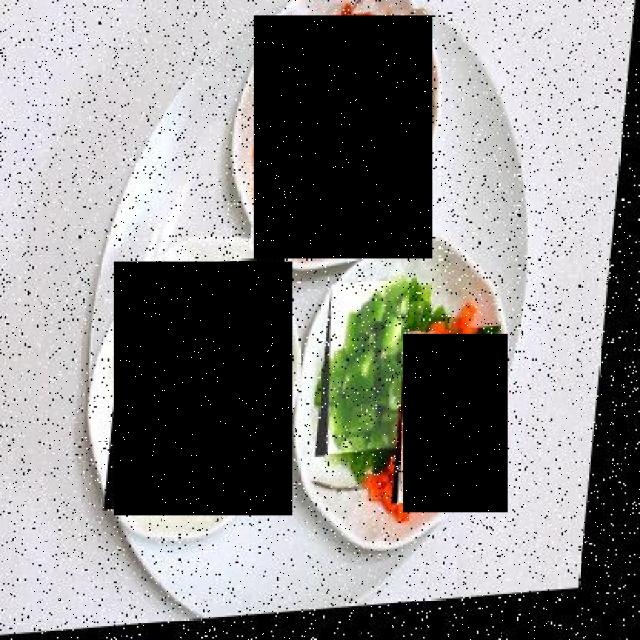Capsicum: (325, 285, 420, 464)
Carrot: (403, 335, 508, 513)
Onion: (114, 262, 292, 516)
kimchi: (254, 15, 432, 259)
